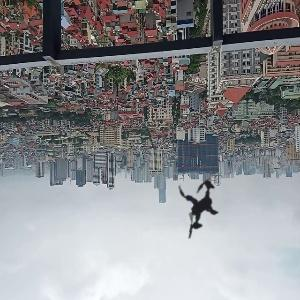drone: (147, 157, 250, 260)
